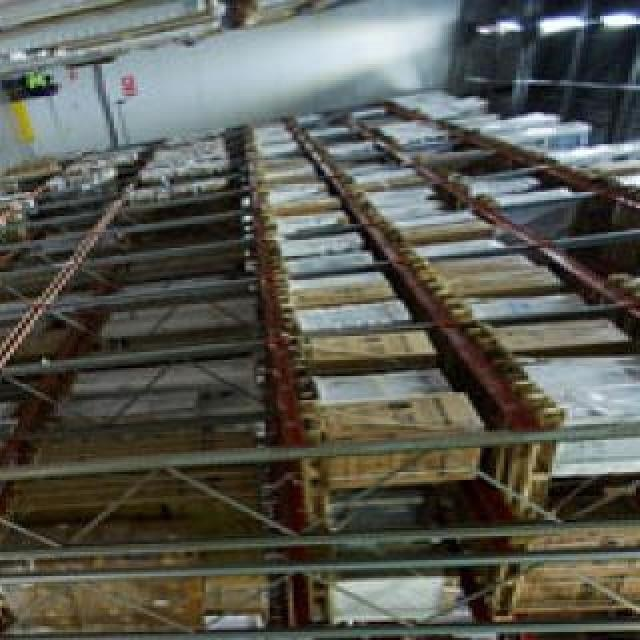fluorescent tube: (534, 6, 583, 57), (602, 4, 638, 44), (472, 16, 504, 51)
